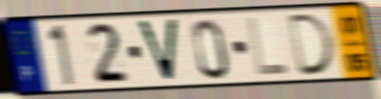0: (189, 16, 233, 81)
1: (46, 23, 78, 89)
2: (84, 21, 129, 85)
D: (286, 11, 339, 79)
L: (245, 15, 292, 79)
V: (134, 17, 181, 84)
